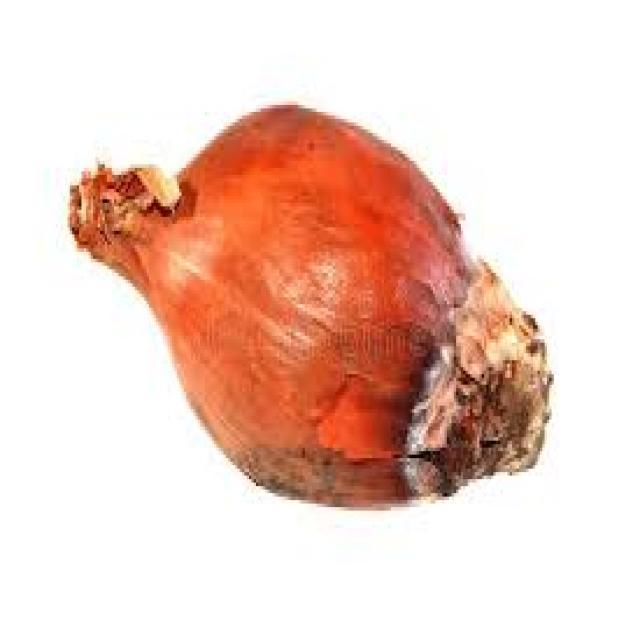Onion: (69, 99, 554, 513)
